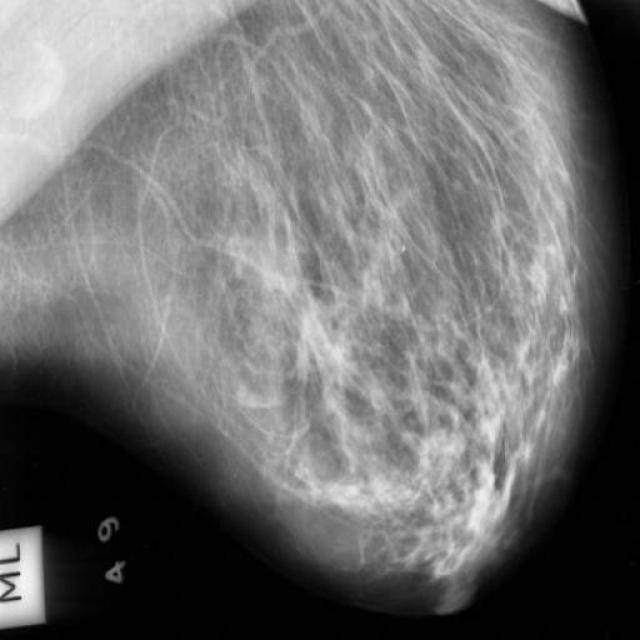cancer: (292, 289, 338, 370)
